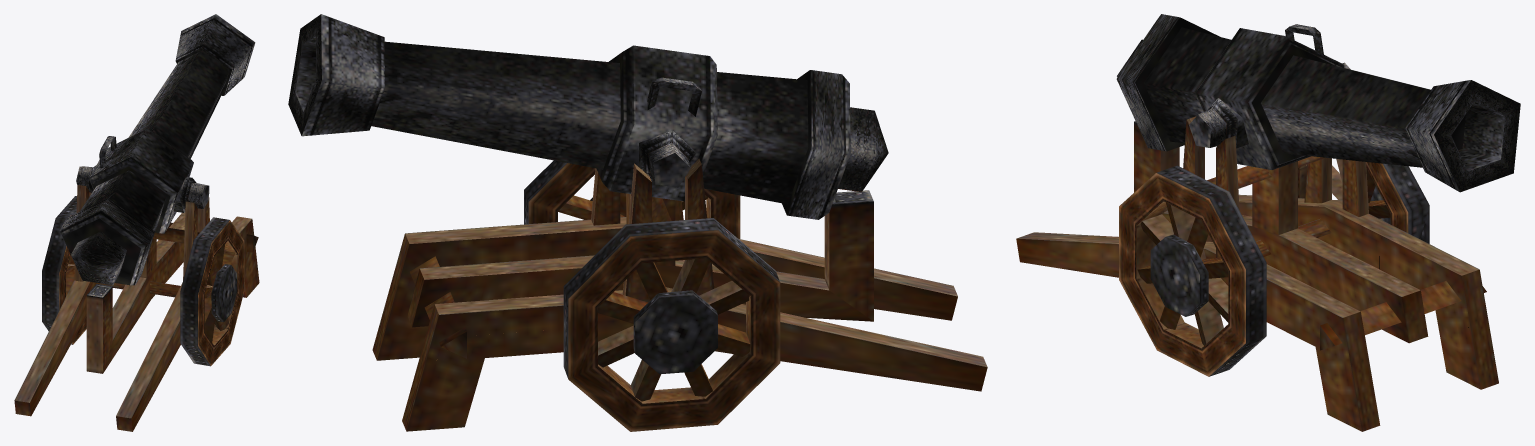
File: saveicon.ico.obj
The picture shows the model from 3 angles, left to right: view 1: azimuth 30°, elevation 25°; view 2: azimuth 150°, elevation 25°; view 3: azimuth 270°, elevation 25°; orthographic projection. The views are drawn at different scales.
Bounding box in the file's own units: 5 × 3.45 × 4.49.
1 material, 1 textured.
